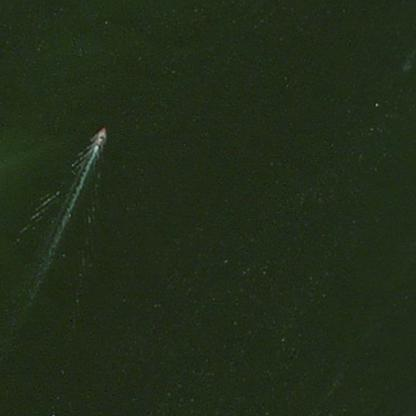ship: (95, 123, 99, 152)
